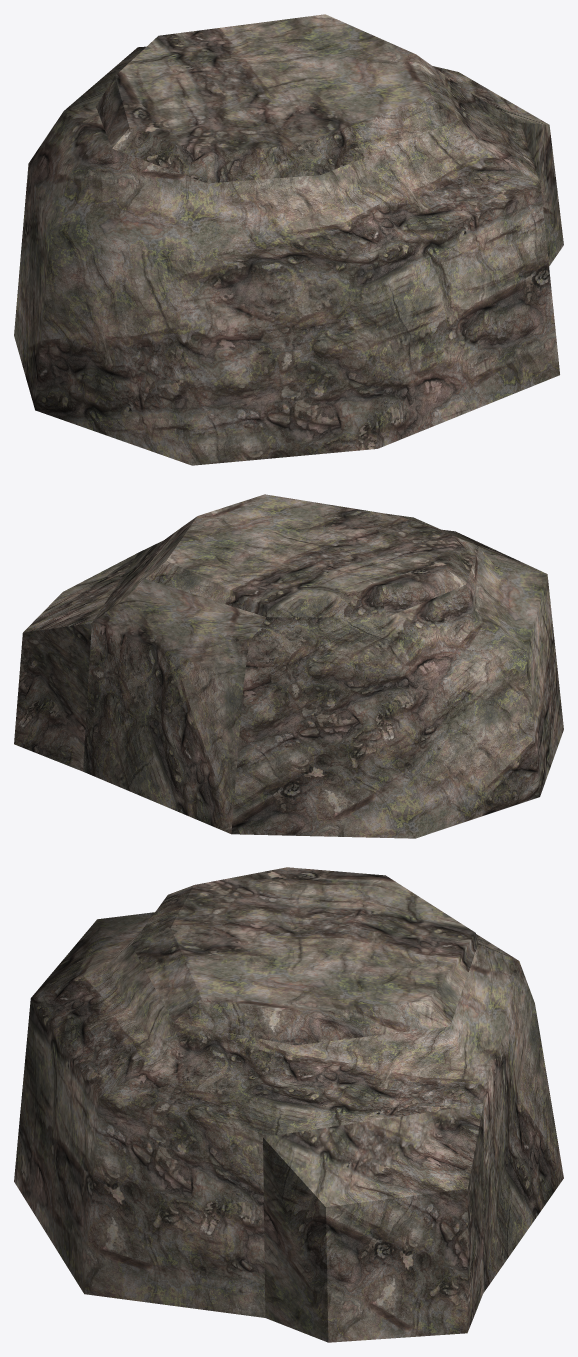
Rendered from island.FBX.
3 renders of one model, top to bottom at view 1: azimuth 30°, elevation 25°; view 2: azimuth 150°, elevation 25°; view 3: azimuth 270°, elevation 25°, orthographic. The views are drawn at different scales.
Visible parts, largest first — view 1: island_LOD0; view 2: island_LOD0; view 3: island_LOD0.
Part boxes in pixels (bbox=[...]): island_LOD0: bbox=[14, 14, 563, 465]; island_LOD0: bbox=[14, 494, 563, 838]; island_LOD0: bbox=[14, 867, 563, 1342].
Size of what is drawn, in the model's own units: 89.33 by 40.4 by 74.57.
